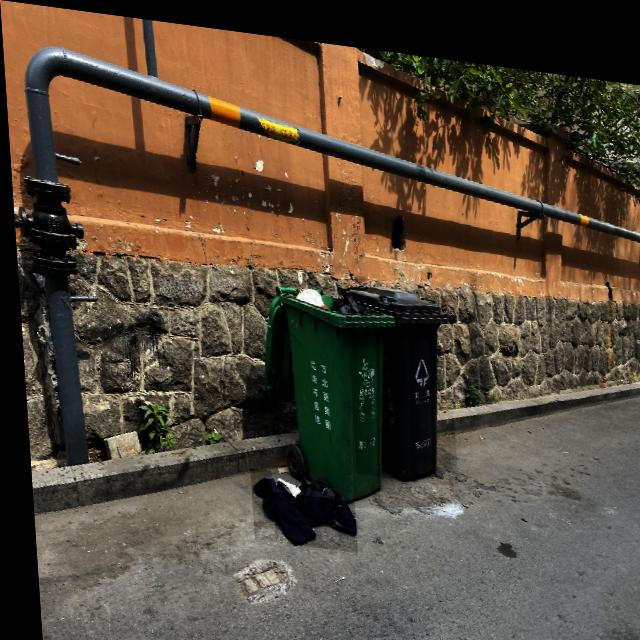garbage: (244, 462, 351, 544)
garbage_bin: (341, 273, 453, 475)
overflow: (255, 273, 400, 499)
